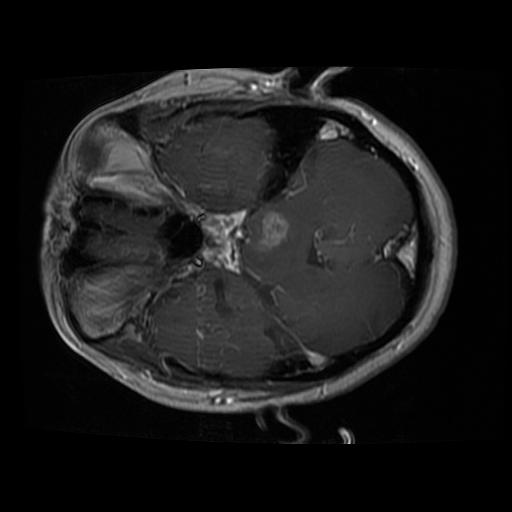glioma: (256, 209, 291, 251)
